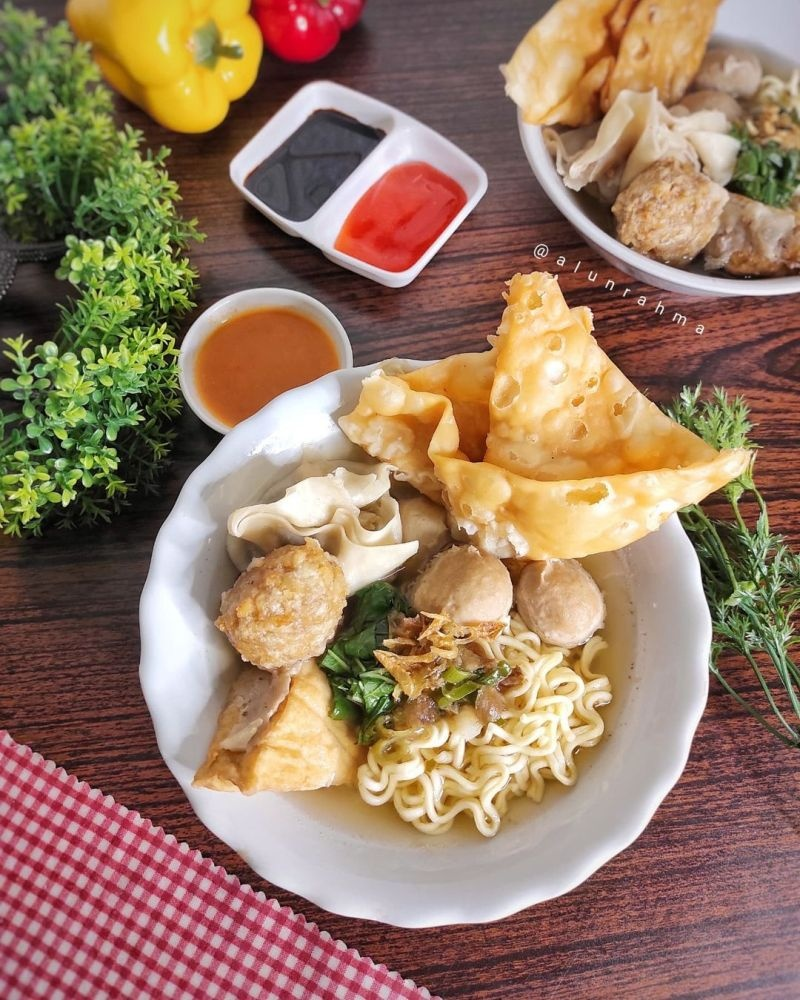bakso_malang: (196, 360, 639, 851)
